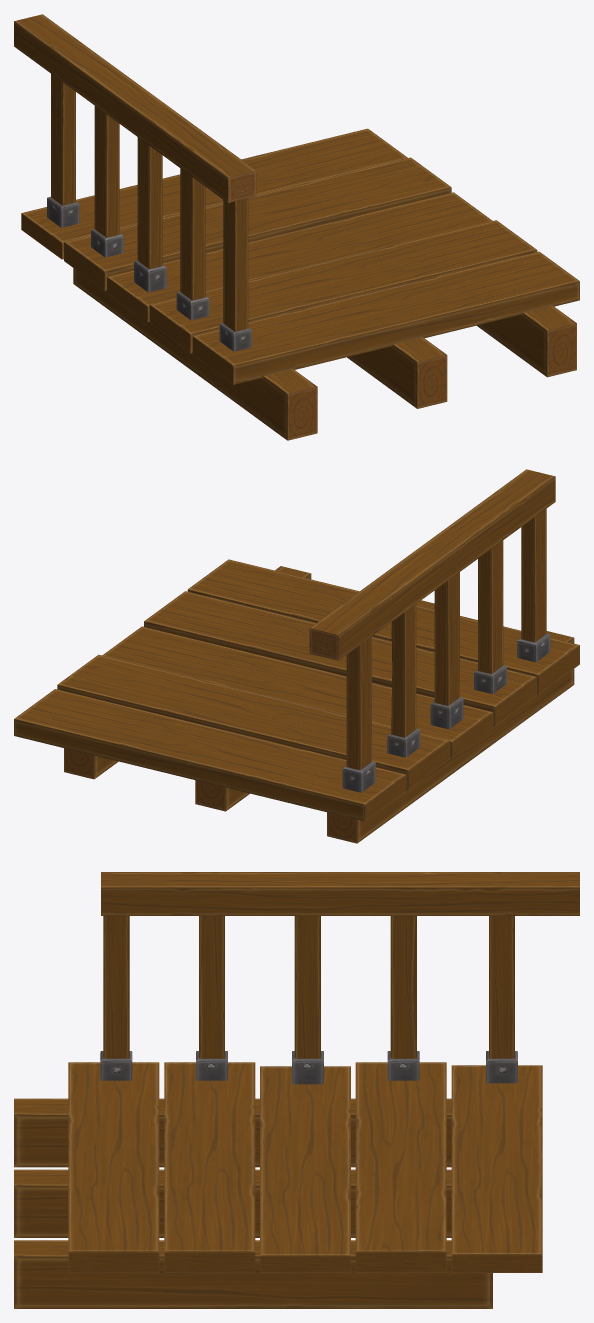
Rendered from SM_Platform_Exterior_01.fbx.
3 views of the same model, one above another, from view 1: azimuth 30°, elevation 25°; view 2: azimuth 150°, elevation 25°; view 3: azimuth 270°, elevation 25° (orthographic). The views are drawn at different scales.
Visible parts, largest first — view 1: SM_Platform_Exterior_01; view 2: SM_Platform_Exterior_01; view 3: SM_Platform_Exterior_01.
Part boxes in pixels (x1,y1,x2,y2): SM_Platform_Exterior_01: [14, 14, 579, 440]; SM_Platform_Exterior_01: [14, 469, 579, 843]; SM_Platform_Exterior_01: [14, 872, 579, 1308].
Bounding box in the file's own units: 1.87 × 1.23 × 2.36.
